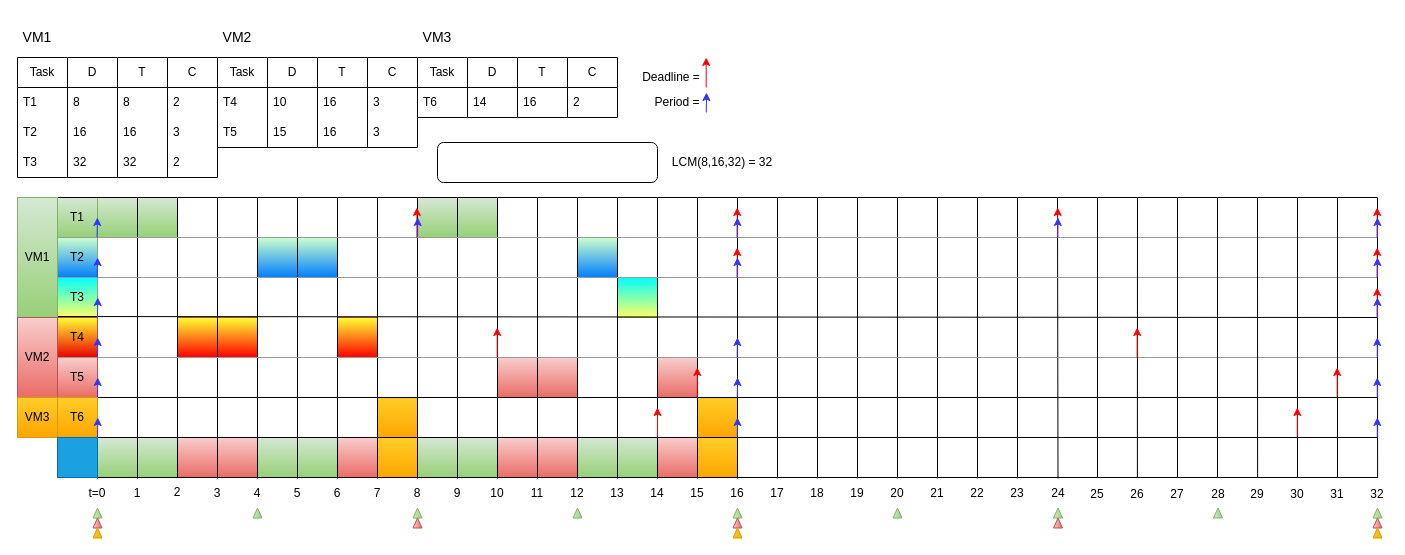
Image size: 1405x555. Some labels were removed from this diagram. Each missing label, with the centre of its shape:
Deadline Monotonic Scheduling: pixel 547 162
VM: pixel 77 457
